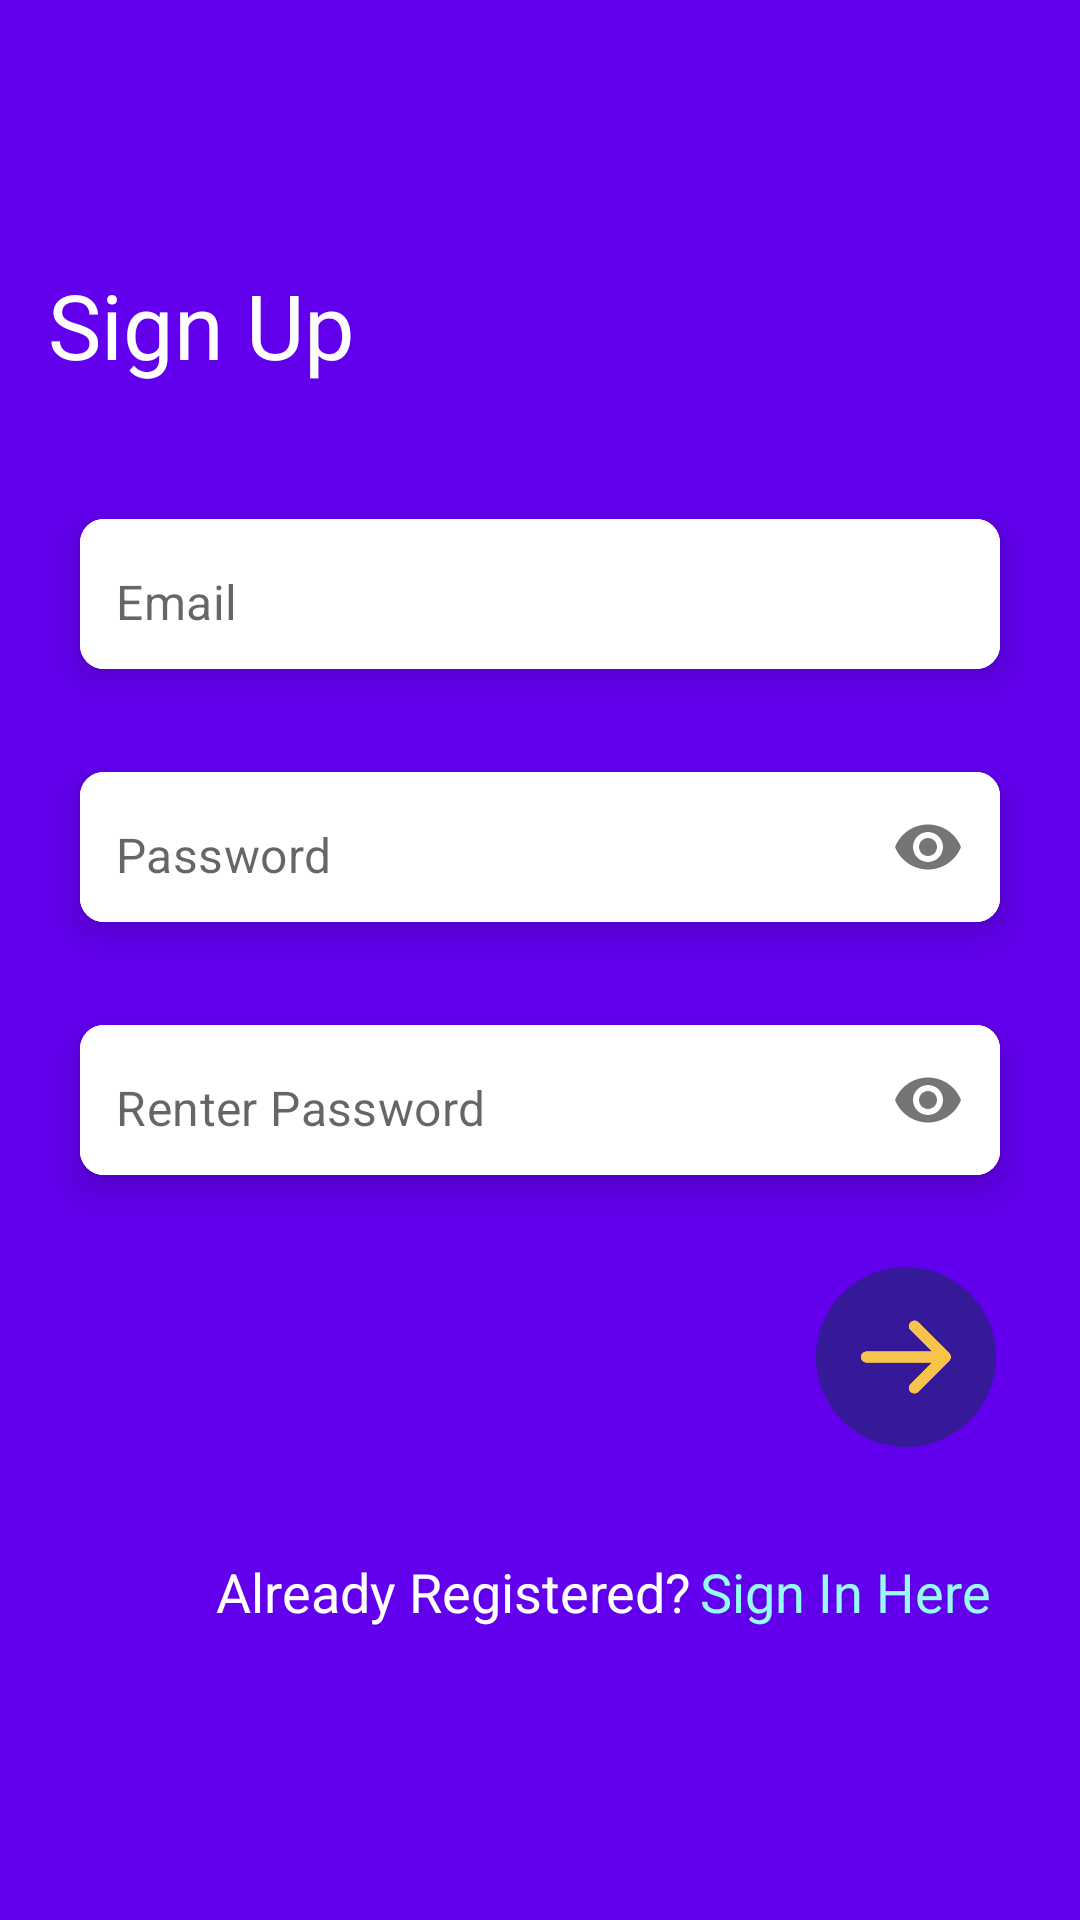

Icons on this 1080px×1920px Android screen, each with the point to tap as (x,y):
rightarrownext: (906,1357)
